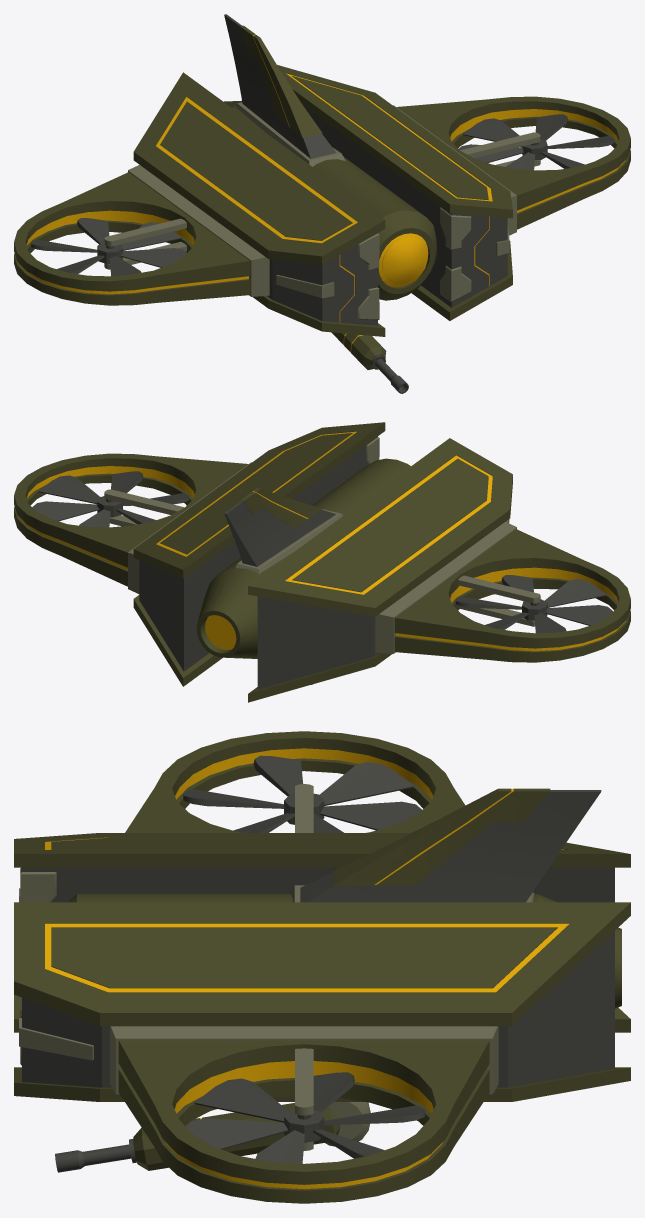
The model's file is FlyingBot.fbx.
3 views of the same model, one above another, from view 1: azimuth 30°, elevation 25°; view 2: azimuth 150°, elevation 25°; view 3: azimuth 270°, elevation 25° (orthographic). The views are drawn at different scales.
Visible parts, largest first — view 1: Body, Right_Blade, Left_Blade; view 2: Body, Right_Blade, Left_Blade; view 3: Body, Left_Blade, Right_Blade.
Boxes of the visible parts, box(x1,y1,x2,y2) form: Body: box(14, 14, 630, 393); Right_Blade: box(31, 218, 186, 276); Left_Blade: box(459, 114, 613, 170); Body: box(14, 422, 630, 702); Right_Blade: box(455, 575, 613, 633); Left_Blade: box(32, 471, 189, 527); Body: box(14, 731, 630, 1203); Left_Blade: box(186, 1072, 425, 1163); Right_Blade: box(183, 755, 421, 832).
Size of the model in its own units: 132 by 53.16 by 77.85.
